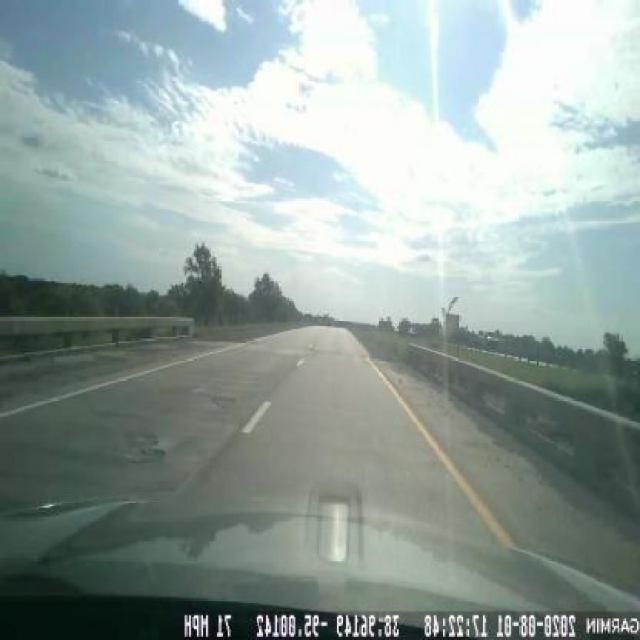pothole: (124, 427, 175, 469), (204, 388, 240, 416)
